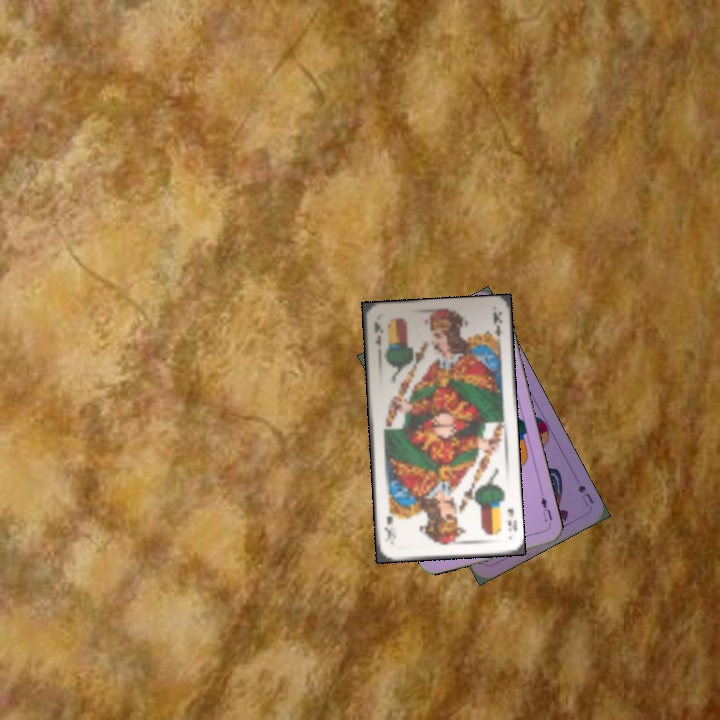EK: (503, 504, 519, 534), (370, 317, 385, 349)
EU: (537, 489, 555, 530)
SU: (574, 481, 596, 509)
